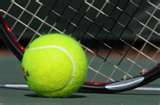tennis ball: (18, 32, 91, 98)
